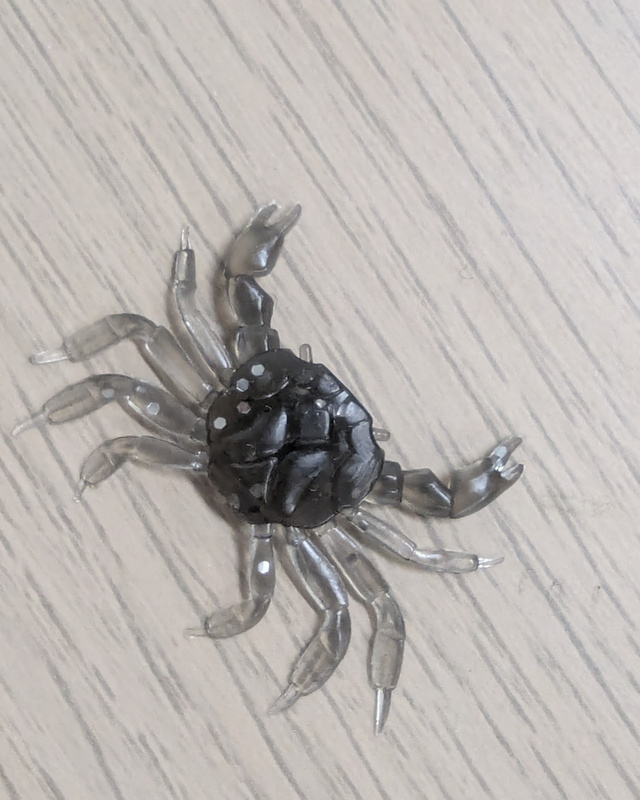crab1: (7, 200, 530, 740)
